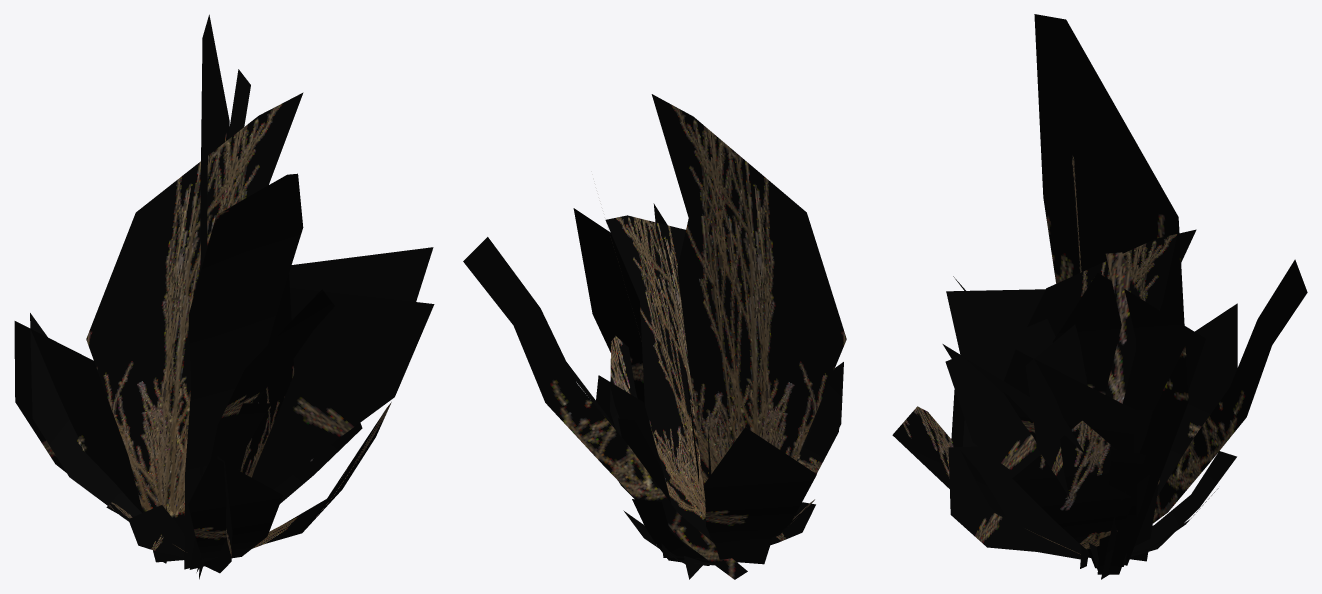
Rendered from plant.opt.glb.
The picture shows the model from 3 angles, left to right: view 1: azimuth 30°, elevation 25°; view 2: azimuth 150°, elevation 25°; view 3: azimuth 270°, elevation 25°; orthographic projection. The views are drawn at different scales.
Parts seen in each view (by area): view 1: _ebf2_Var1_LOD0; view 2: _ebf2_Var1_LOD0; view 3: _ebf2_Var1_LOD0.
Part boxes in pixels (x1,y1,x2,y2): _ebf2_Var1_LOD0: (14, 14, 434, 579); _ebf2_Var1_LOD0: (463, 94, 846, 579); _ebf2_Var1_LOD0: (892, 14, 1307, 579).
Bounding box in the file's own units: 0.3356 × 0.5558 × 0.389.
Materials: 1 (1 with a texture image).
